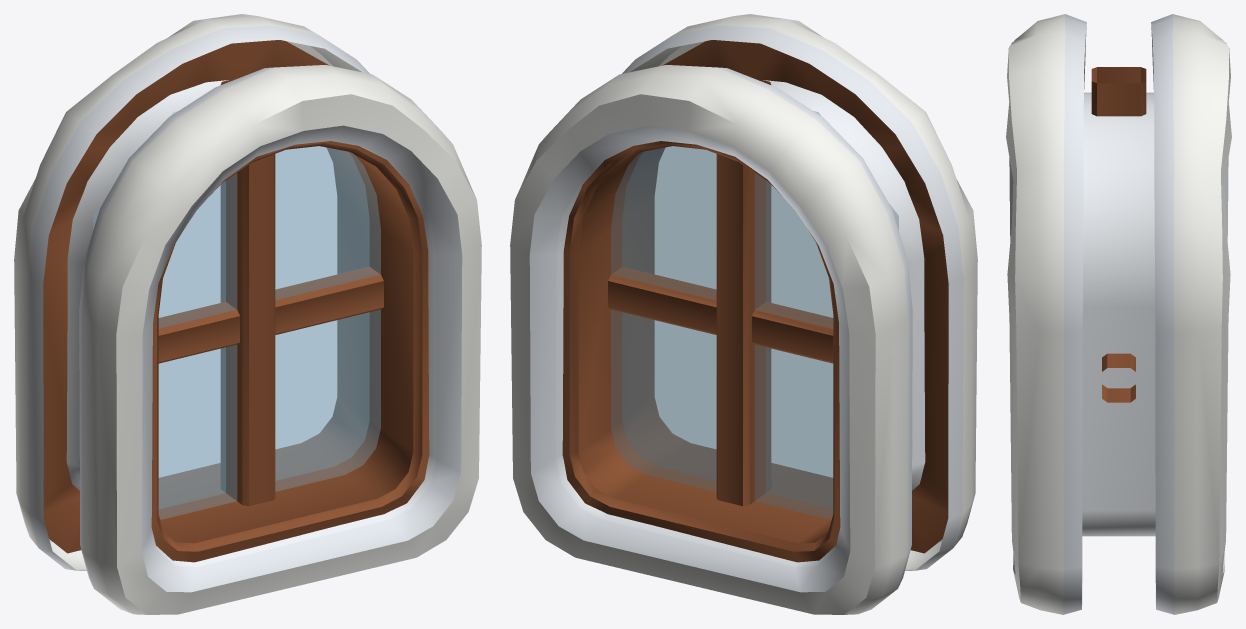
Rendered from janela_natal_arco_glace_pacote.glb.
3 renders of one model, left to right at view 1: azimuth 30°, elevation 25°; view 2: azimuth 150°, elevation 25°; view 3: azimuth 270°, elevation 25°, orthographic.
Visible parts, largest first — view 1: janela_natal_arco_glace_pacote; view 2: janela_natal_arco_glace_pacote; view 3: janela_natal_arco_glace_pacote.
Part boxes in pixels (<box>): janela_natal_arco_glace_pacote: <box>14,14,481,614</box>; janela_natal_arco_glace_pacote: <box>510,14,977,614</box>; janela_natal_arco_glace_pacote: <box>1006,14,1231,614</box>.
Bounding box in the file's own units: 0.9555 × 1.22 × 0.4839.
Materials: 2 (1 with a texture image).
